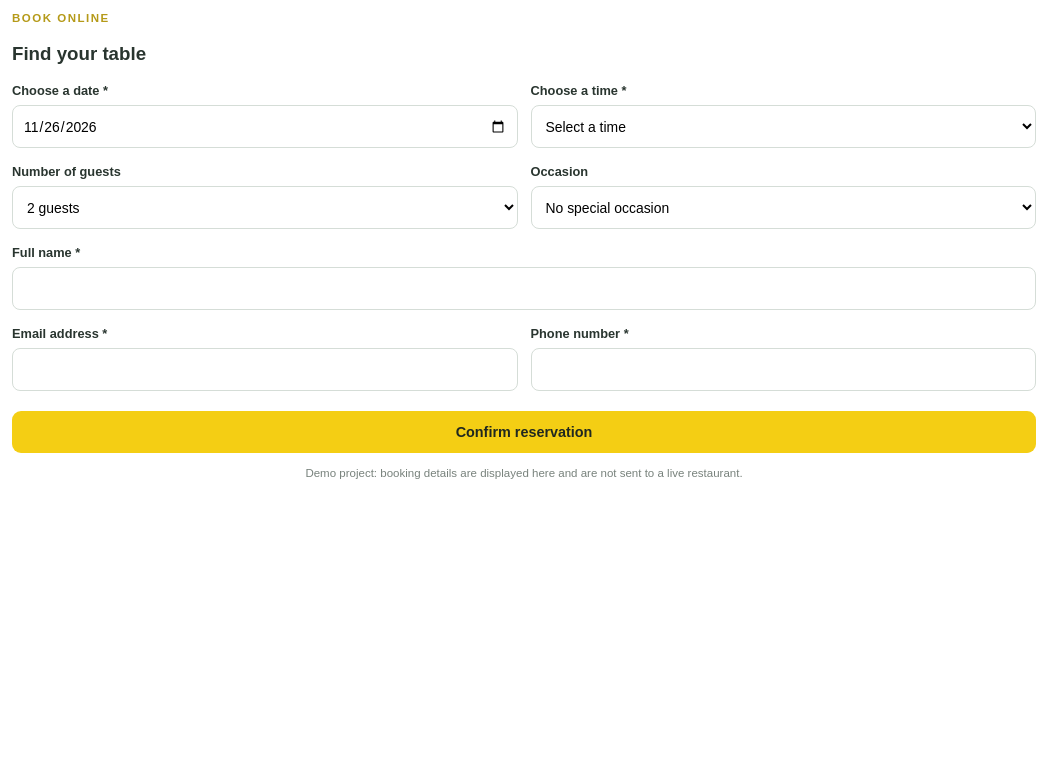
Test: BookingForm › shows validation messages when required fields are missing
The width and height of the screenshot is (1048, 780).
Step 1. Click the button "Confirm reservation" → (524, 432), box [12,411,1036,453]
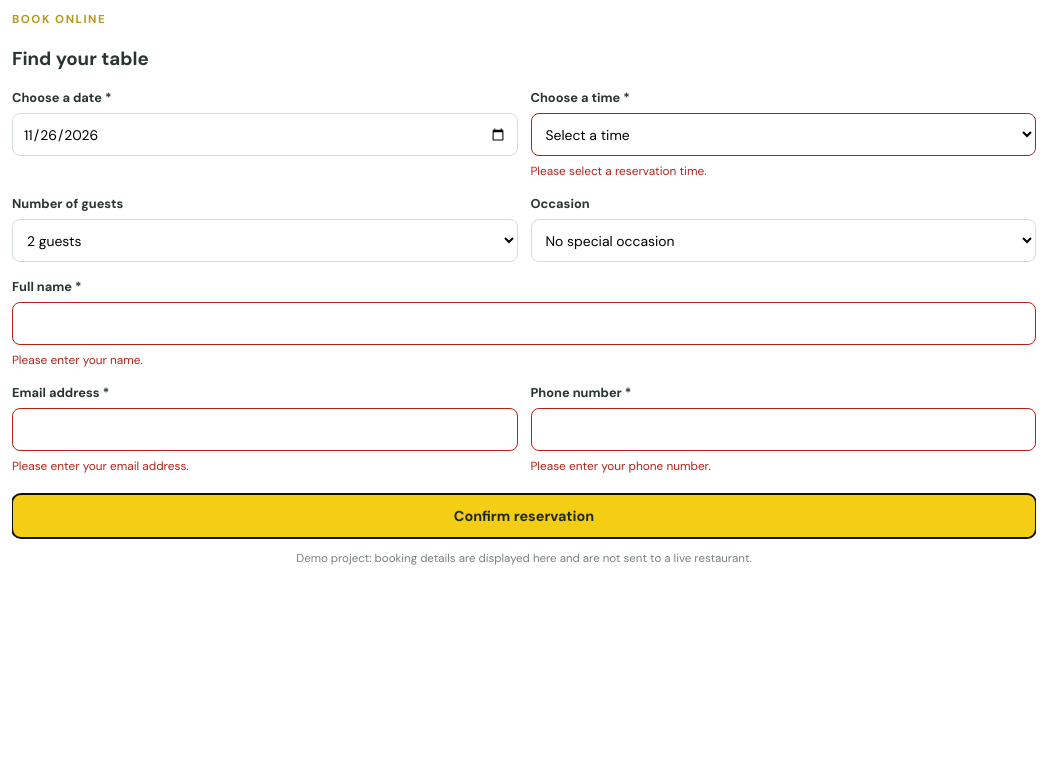
expect the text "Please select a reservation time." is shown: met, box [530,163,706,179]
expect the text "Please enter your name." is shown: met, box [12,352,143,368]
